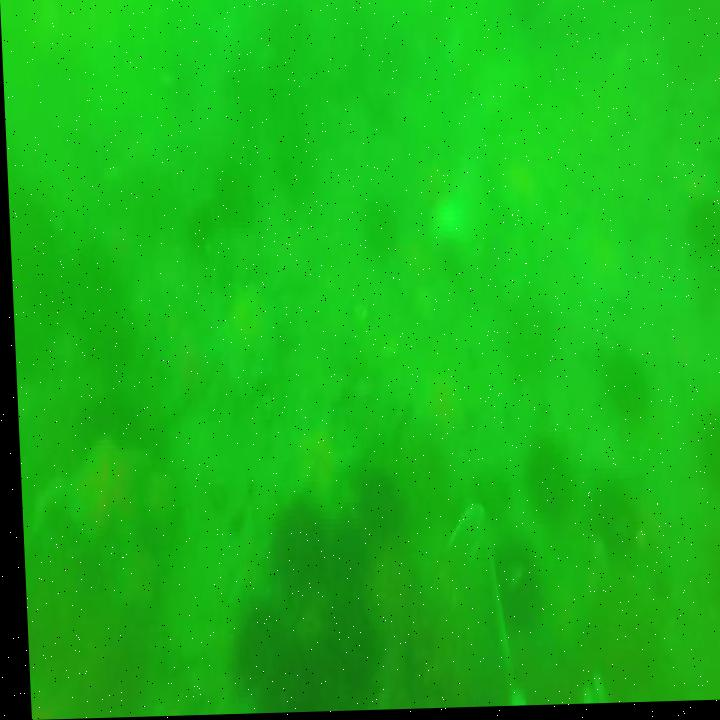echinus: (62, 238, 121, 370), (223, 605, 295, 710), (305, 603, 373, 713), (262, 499, 324, 599), (576, 474, 645, 563), (589, 348, 650, 429), (483, 549, 541, 633), (322, 508, 365, 611), (199, 165, 253, 230), (352, 470, 394, 547), (521, 446, 565, 513), (690, 415, 720, 498), (354, 211, 394, 264)
starfish: (63, 427, 150, 552), (207, 278, 289, 399)
